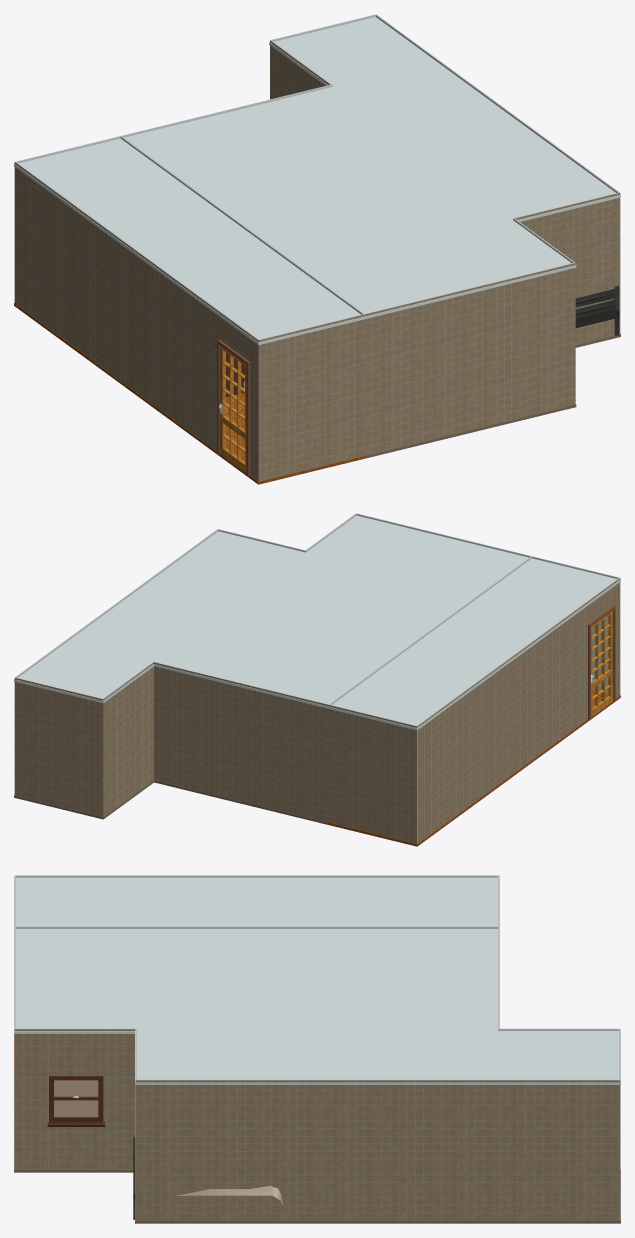
The model's file is ProcTHOR-Train-30.glb.
3 renders of one model, top to bottom at view 1: azimuth 30°, elevation 25°; view 2: azimuth 150°, elevation 25°; view 3: azimuth 270°, elevation 25°, orthographic. The views are drawn at different scales.
Visible parts, largest first — view 1: Ceiling#room|2|c, WallInside#wall|exterior|8.14|2.04|8.14|10.18, WallInside#wall|exterior|2.04|10.18|6.11|10.18, Ceiling#room|3|c, WallInside#wall|exterior|6.11|10.18|8.14|10.18, WallInside#wall|exterior|0.00|8.14|2.04|8.14, Doorway_5, Floor#room|3|f, WallInside#wall|exterior|2.04|0.00|2.04|2.04, Bed_7, Floor#room|2|f, WallInside#wall|3|6.11|2.04|6.11|10.18 (+1 smaller); view 2: Ceiling#room|2|c, WallInside#wall|exterior|8.14|2.04|8.14|10.18, WallInside#wall|exterior|2.04|2.04|6.11|2.04, Ceiling#room|3|c, WallInside#wall|exterior|0.00|0.00|2.04|0.00, WallInside#wall|exterior|6.11|2.04|8.14|2.04, WallInside#wall|exterior|2.04|0.00|2.04|2.04, Doorway_5, Floor#room|3|f, Floor#room|2|f, WallInside#wall|3|6.11|10.18|8.14|10.18, WallInside#wall|2|0.00|0.00|0.00|8.14 (+1 smaller); view 3: Ceiling#room|2|c, WallInside#wall|exterior|0.00|0.00|0.00|8.14, Ceiling#room|3|c, WallInside#wall|exterior|2.04|8.14|2.04|10.18, Floor#room|2|f, Window_Hung_36x32, WallInside#wall|3|8.14|2.04|8.14|10.18, WallInside#wall|2|6.11|2.04|6.11|10.18, Bed_7, WallInside#wall|2|0.00|0.00|0.00|8.14, WallInside#wall|3|6.11|2.04|6.11|10.18, WallInside#wall|exterior|8.14|2.04|8.14|10.18.
Part boxes in pixels (left/top/right/bottom): Ceiling#room|2|c: left=121, top=17, right=620, bottom=319; WallInside#wall|exterior|8.14|2.04|8.14|10.18: left=14, top=162, right=258, bottom=481; WallInside#wall|exterior|2.04|10.18|6.11|10.18: left=364, top=263, right=575, bottom=455; Ceiling#room|3|c: left=14, top=138, right=365, bottom=345; WallInside#wall|exterior|6.11|10.18|8.14|10.18: left=258, top=314, right=364, bottom=481; WallInside#wall|exterior|0.00|8.14|2.04|8.14: left=514, top=193, right=620, bottom=344; Doorway_5: left=217, top=339, right=250, bottom=476; Floor#room|3|f: left=14, top=303, right=365, bottom=484; WallInside#wall|exterior|2.04|0.00|2.04|2.04: left=270, top=40, right=330, bottom=99; Bed_7: left=575, top=286, right=619, bottom=335; Floor#room|2|f: left=363, top=334, right=620, bottom=458; WallInside#wall|3|6.11|2.04|6.11|10.18: left=120, top=136, right=363, bottom=314; Ceiling#room|2|c: left=14, top=515, right=531, bottom=708; WallInside#wall|exterior|8.14|2.04|8.14|10.18: left=417, top=578, right=620, bottom=843; WallInside#wall|exterior|2.04|2.04|6.11|2.04: left=154, top=662, right=329, bottom=822; Ceiling#room|3|c: left=328, top=558, right=620, bottom=730; WallInside#wall|exterior|0.00|0.00|2.04|0.00: left=14, top=677, right=103, bottom=816; WallInside#wall|exterior|6.11|2.04|8.14|2.04: left=328, top=705, right=417, bottom=843; WallInside#wall|exterior|2.04|0.00|2.04|2.04: left=103, top=662, right=153, bottom=816; Doorway_5: left=588, top=606, right=615, bottom=719; Floor#room|3|f: left=328, top=689, right=620, bottom=846; Floor#room|2|f: left=14, top=780, right=329, bottom=824; WallInside#wall|3|6.11|10.18|8.14|10.18: left=532, top=556, right=618, bottom=692; WallInside#wall|2|0.00|0.00|0.00|8.14: left=15, top=529, right=218, bottom=677; Ceiling#room|2|c: left=14, top=928, right=620, bottom=1084; WallInside#wall|exterior|0.00|0.00|0.00|8.14: left=135, top=1080, right=620, bottom=1220; Ceiling#room|3|c: left=14, top=877, right=499, bottom=928; WallInside#wall|exterior|2.04|8.14|2.04|10.18: left=14, top=1029, right=135, bottom=1169; Floor#room|2|f: left=14, top=1067, right=620, bottom=1223; Window_Hung_36x32: left=47, top=1076, right=104, bottom=1126; WallInside#wall|3|8.14|2.04|8.14|10.18: left=15, top=875, right=497, bottom=877; WallInside#wall|2|6.11|2.04|6.11|10.18: left=16, top=926, right=497, bottom=928; Bed_7: left=133, top=1137, right=282, bottom=1219; WallInside#wall|2|0.00|0.00|0.00|8.14: left=137, top=1079, right=618, bottom=1079; WallInside#wall|3|6.11|2.04|6.11|10.18: left=16, top=926, right=497, bottom=926; WallInside#wall|exterior|8.14|2.04|8.14|10.18: left=16, top=875, right=497, bottom=875.
Size of what is drawn, in the model's own units: 8.3 by 2.66 by 10.21.
79 materials, 27 textured.
